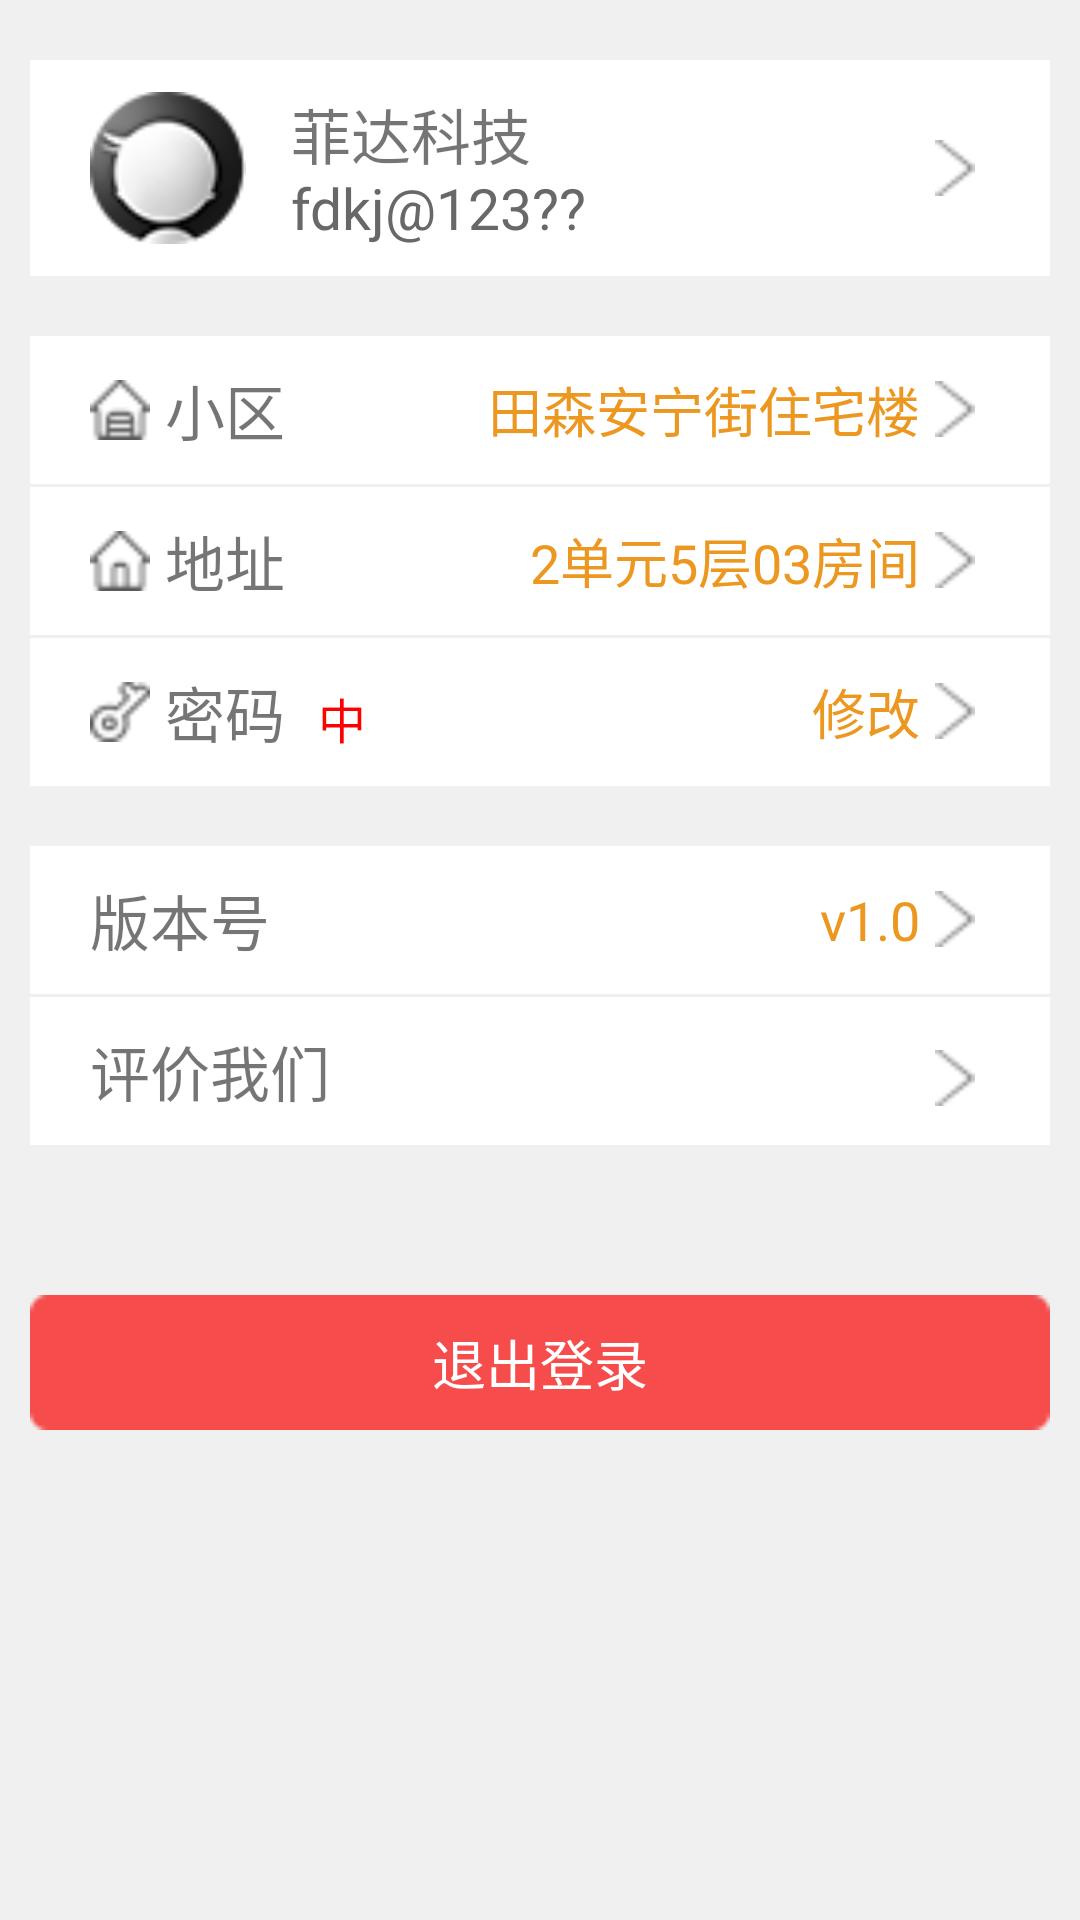

Locate icon controls on the screen. Image size 1080x1920, boxes as (x1, y1, x2, y2).
arrows: (935, 140, 975, 196), (935, 1050, 975, 1106)
portrait: (90, 92, 246, 244)
